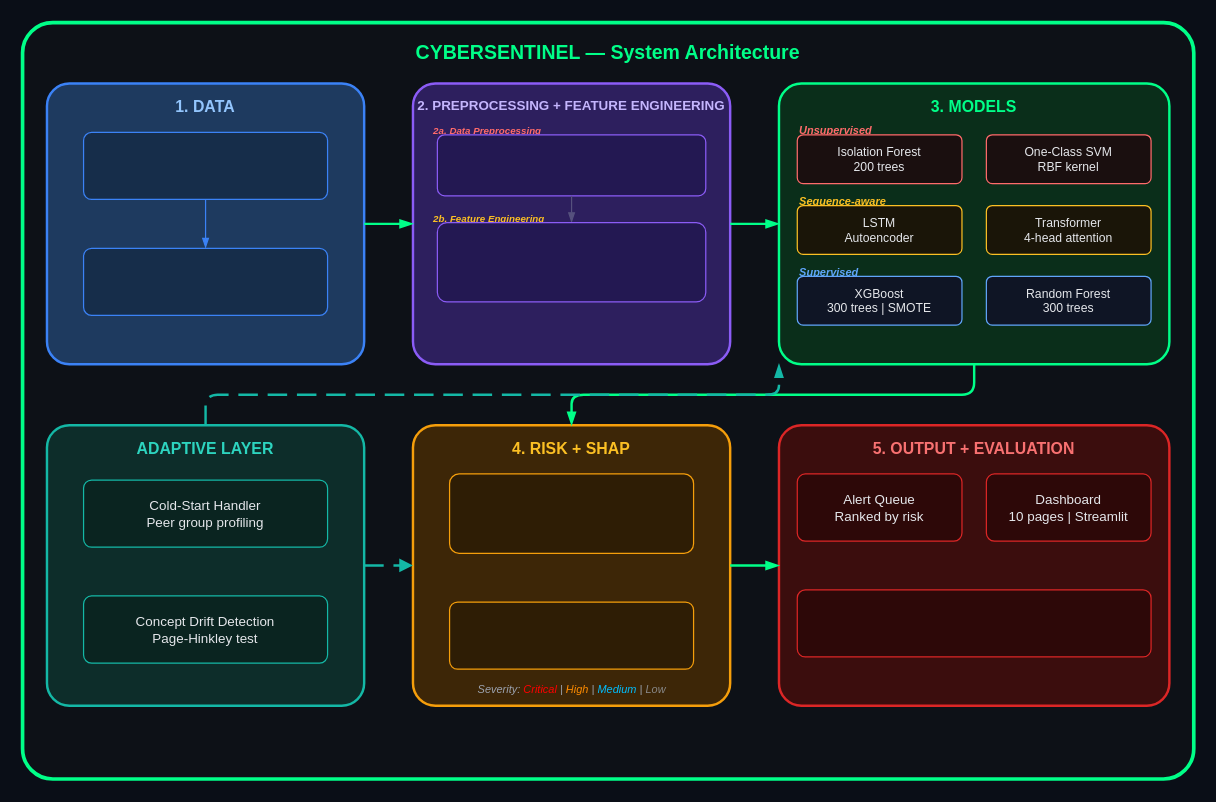
Some shapes in this 1216 by 802 pixel diagram are drawn without their labels. Here are the shapes that lost their labels. From the top down, the centre of each, then its label:
At (205,165): "Attack Injection 7 types | ~2.5% rate".
At (571,165): "StandardScaler | LabelEncoder Null handling | Geo parsing".
At (205,281): "Synthetic Data Generator 50K events | 200 entities".
At (571,261): "28 Engineered Features Temporal | Behavioral Network | Geo-spatial".
At (571,513): "Risk Score Engine 0.35xIF + 0.35xLSTM + 0.20xXGB + 0.10xHist".
At (571,635): "SHAP Explainer Per-alert attribution Natural language reasons".
At (973,623): "F1: 0.838 | AUC: 0.968 Precision@1%: 95%".
